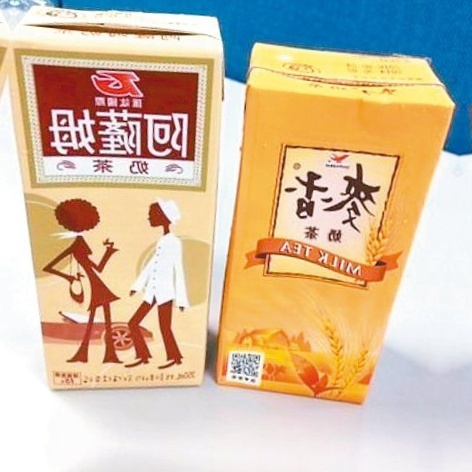鋁箔包: (0, 0, 248, 409), (204, 34, 466, 415), (438, 56, 472, 437), (0, 0, 16, 387)
